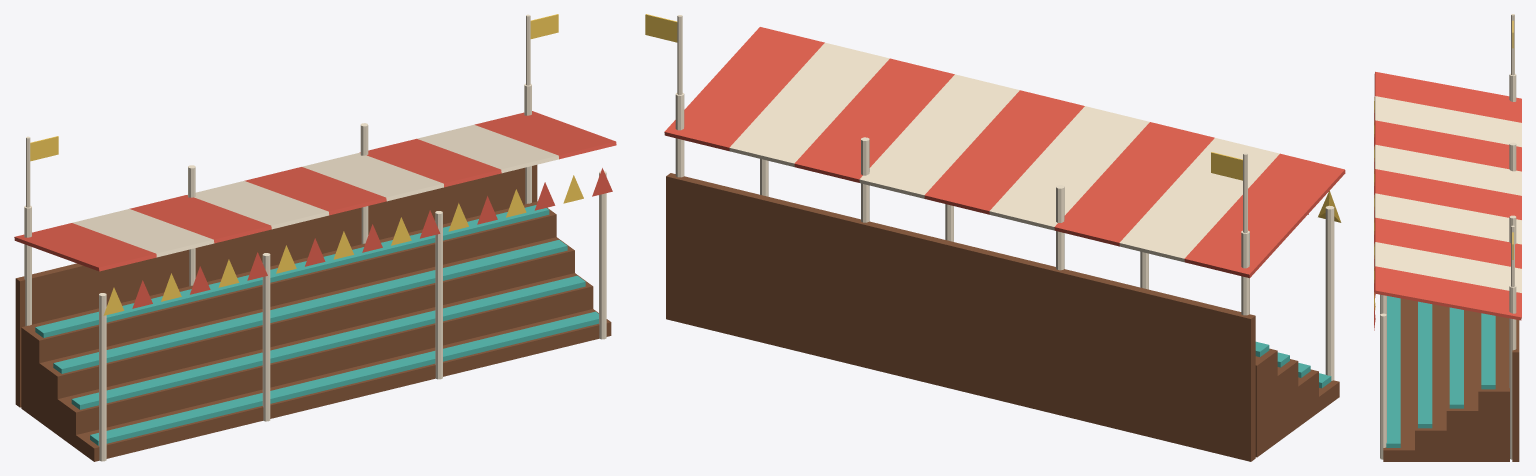
File: grandstand_r35_backup.glb
The picture shows the model from 3 angles, left to right: view 1: azimuth 30°, elevation 25°; view 2: azimuth 150°, elevation 25°; view 3: azimuth 270°, elevation 25°; orthographic projection. The views are drawn at different scales.
Visible parts, largest first — view 1: Grandstand; view 2: Grandstand; view 3: Grandstand.
Boxes of the visible parts, x1,y1,x2,y2 form: Grandstand: (14,14,616,461); Grandstand: (645,14,1345,461); Grandstand: (1374,14,1521,461).
Bounding box in the file's own units: 18.75 × 8.9 × 5.14.
